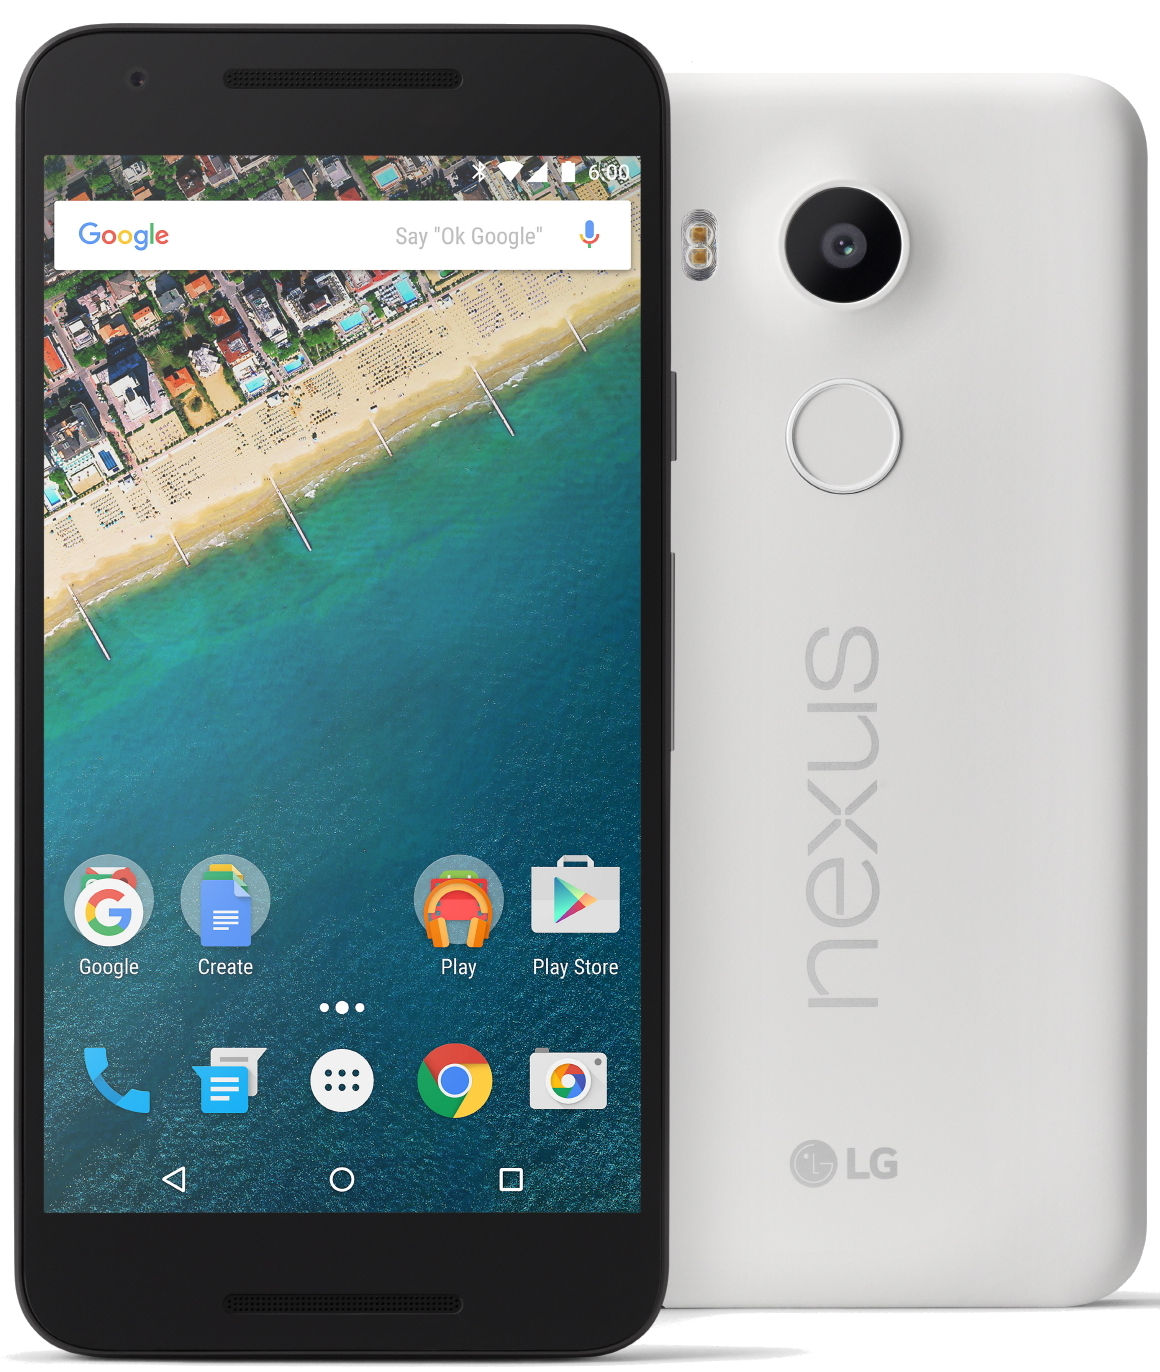smartphone: (15, 21, 678, 1360), (667, 70, 1148, 1306)
